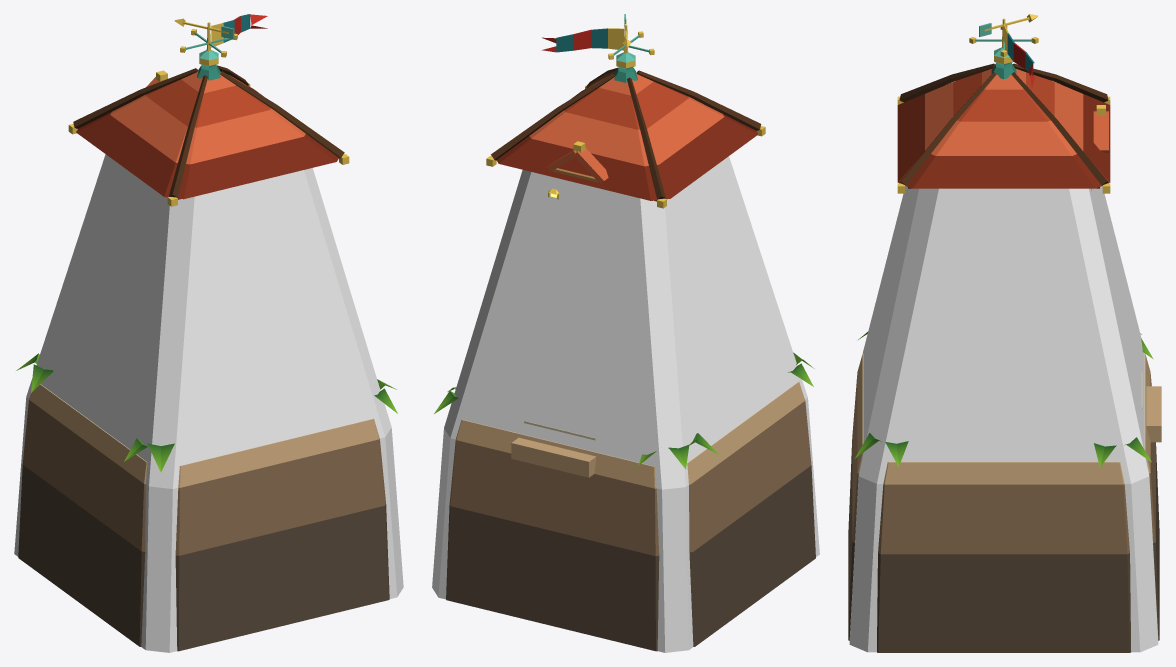
The model's file is pirate_harbour_clock_belltower.glb.
The picture shows the model from 3 angles, left to right: view 1: azimuth 30°, elevation 25°; view 2: azimuth 150°, elevation 25°; view 3: azimuth 270°, elevation 25°; orthographic projection. The views are drawn at different scales.
Visible parts, largest first — view 1: pirate_harbour_clock_belltower, col_clocktower_base; view 2: pirate_harbour_clock_belltower, col_clocktower_base; view 3: col_clocktower_base, pirate_harbour_clock_belltower.
Part boxes in pixels (bbox=[...]): pirate_harbour_clock_belltower: bbox=[16, 14, 397, 651]; col_clocktower_base: bbox=[14, 154, 403, 652]; pirate_harbour_clock_belltower: bbox=[434, 14, 815, 651]; col_clocktower_base: bbox=[432, 156, 819, 652]; col_clocktower_base: bbox=[849, 186, 1158, 652]; pirate_harbour_clock_belltower: bbox=[848, 14, 1161, 652].
Bounding box in the file's own units: 5.1 × 9.66 × 4.83.
